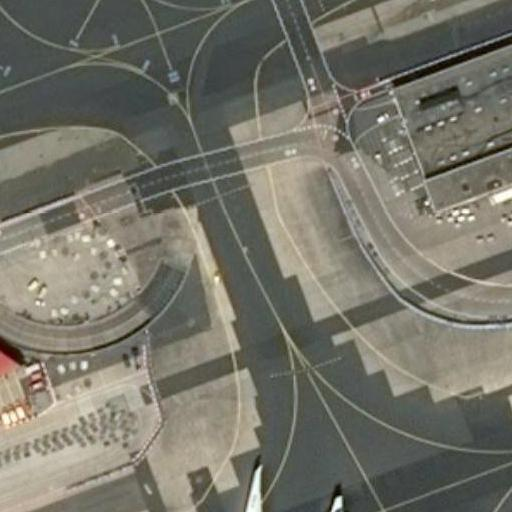Aircraft: (168, 465, 363, 512)
